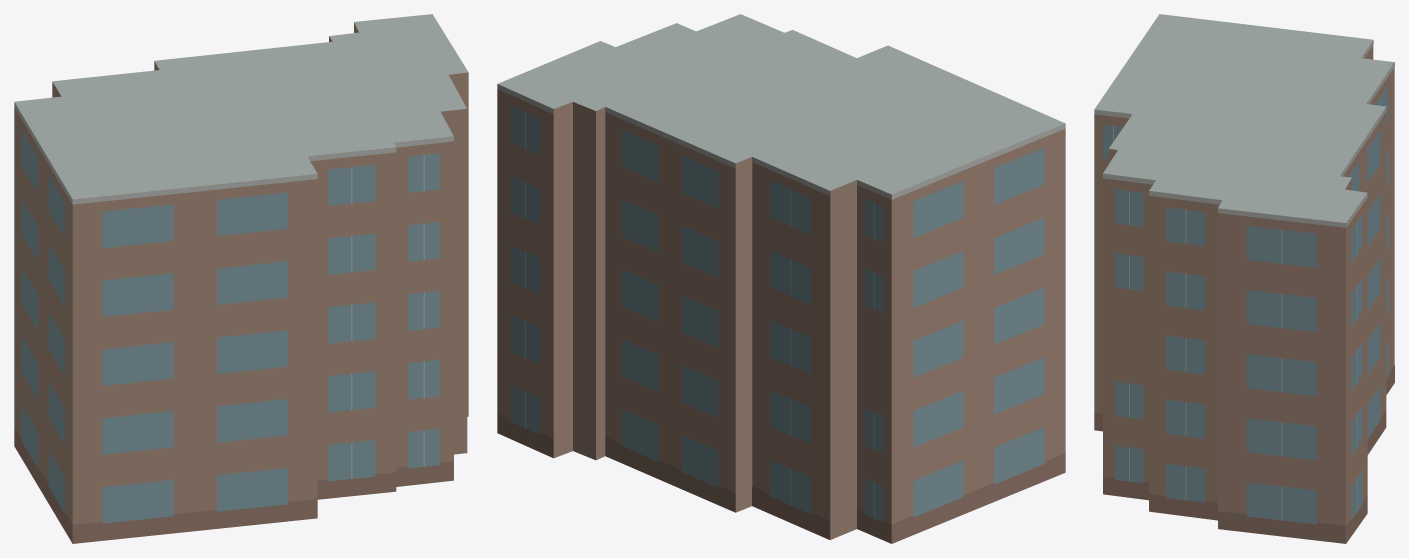
Rendered from survey-upis-32582650.glb.
3 views of the same model, side by side, from view 1: azimuth 30°, elevation 25°; view 2: azimuth 150°, elevation 25°; view 3: azimuth 270°, elevation 25° (orthographic). The views are drawn at different scales.
Parts seen in each view (by area): view 1: survey-upis-32582650.tmp; view 2: survey-upis-32582650.tmp; view 3: survey-upis-32582650.tmp.
Boxes of the visible parts, bbox=[...] form: survey-upis-32582650.tmp: bbox=[14, 14, 468, 543]; survey-upis-32582650.tmp: bbox=[497, 14, 1065, 543]; survey-upis-32582650.tmp: bbox=[1094, 14, 1394, 543].
Bounding box in the file's own units: 22.79 × 16.3 × 13.85.
